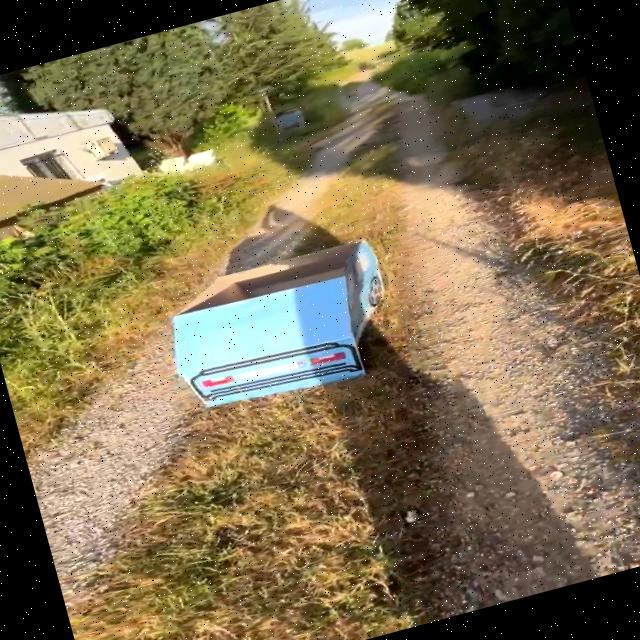blue_car: (112, 194, 457, 469)
